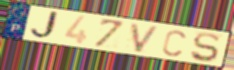4: (63, 14, 89, 46)
7: (95, 17, 127, 49)
C: (161, 29, 188, 58)
J: (29, 10, 63, 40)
S: (189, 32, 221, 64)
V: (129, 22, 162, 54)
